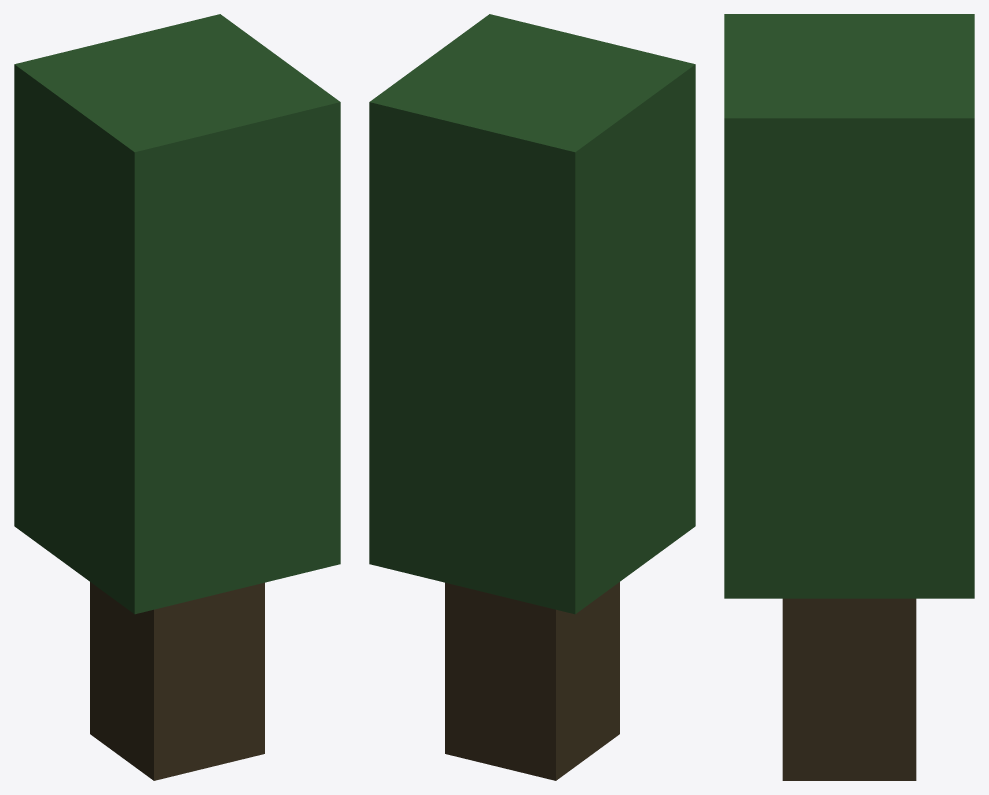
Rendered from tree2.gltf.
The picture shows the model from 3 angles, left to right: view 1: azimuth 30°, elevation 25°; view 2: azimuth 150°, elevation 25°; view 3: azimuth 270°, elevation 25°; orthographic projection. The views are drawn at different scales.
Parts seen in each view (by area): view 1: Tree2; view 2: Tree2; view 3: Tree2.
Part boxes in pixels (left/top/right/bottom): Tree2: left=14, top=14, right=340, bottom=780; Tree2: left=369, top=14, right=695, bottom=780; Tree2: left=724, top=14, right=974, bottom=780.
Size of the model in its own units: 9.92 by 30.43 by 10.04.
